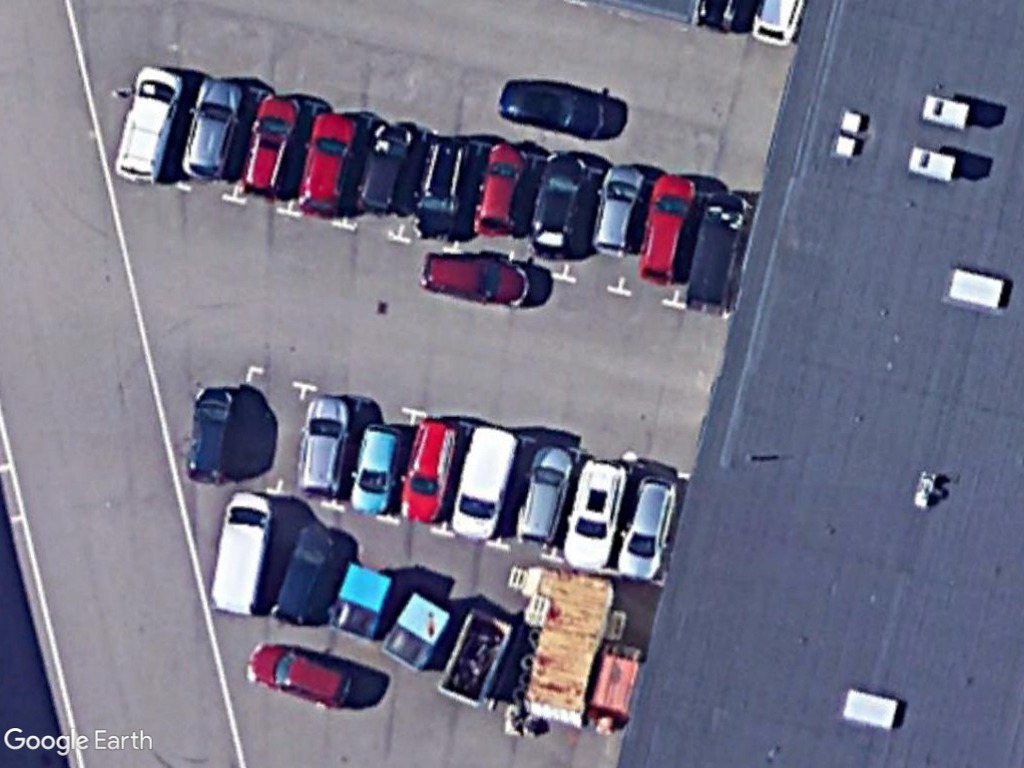car: (558, 453, 640, 575), (109, 64, 188, 188), (239, 638, 358, 716), (632, 167, 704, 294), (611, 469, 686, 584), (236, 89, 307, 204), (180, 73, 251, 187), (293, 111, 365, 222), (392, 416, 463, 526), (417, 246, 535, 311), (294, 391, 358, 501), (513, 443, 578, 550), (470, 138, 537, 239), (180, 381, 240, 486), (347, 419, 409, 516)
van: (206, 486, 278, 620), (446, 419, 524, 541)
